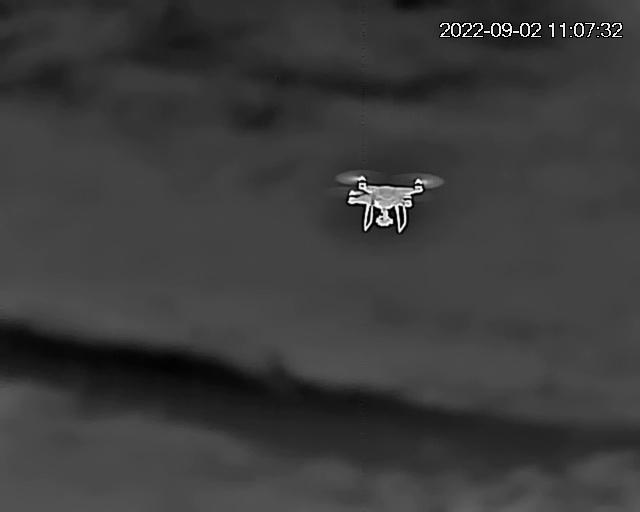DJI-Phantom: (340, 168, 427, 234)
